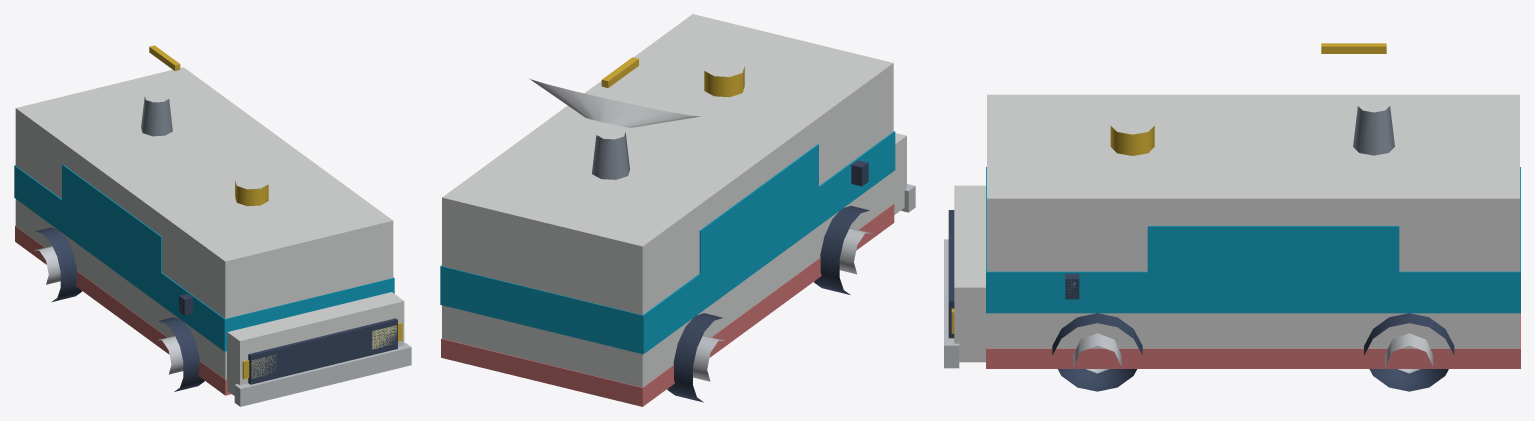
File: news-van.glb
3 renders of one model, left to right at view 1: azimuth 30°, elevation 25°; view 2: azimuth 150°, elevation 25°; view 3: azimuth 270°, elevation 25°, orthographic. The views are drawn at different scales.
Visible parts, largest first — view 1: Root; view 2: Root; view 3: Root.
Boxes of the visible parts, bbox=[...] form: Root: bbox=[14, 45, 411, 406]; Root: bbox=[440, 14, 915, 406]; Root: bbox=[944, 43, 1520, 391].
Size of the model in its own units: 3.03 by 3.44 by 5.74.
